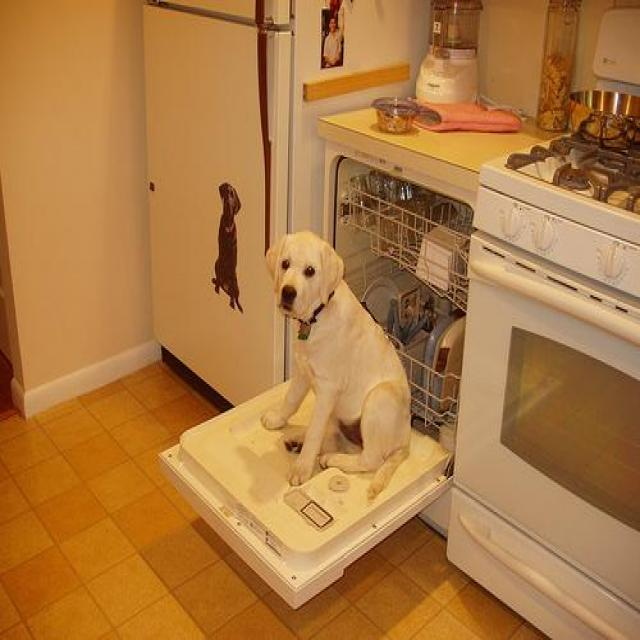sitting: (258, 221, 420, 502)
